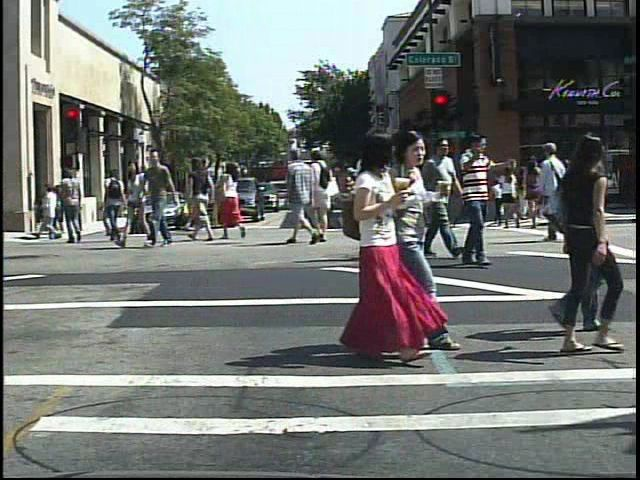person: (327, 124, 423, 372), (536, 128, 636, 363), (550, 133, 619, 337), (452, 127, 511, 277), (359, 134, 409, 266), (388, 126, 433, 266), (416, 135, 463, 261), (534, 133, 579, 249), (142, 147, 182, 253), (285, 142, 320, 245), (119, 159, 154, 252), (188, 153, 219, 248), (220, 154, 250, 245), (58, 167, 89, 245), (313, 148, 337, 246), (497, 160, 525, 231), (103, 166, 126, 244), (339, 161, 359, 229)
